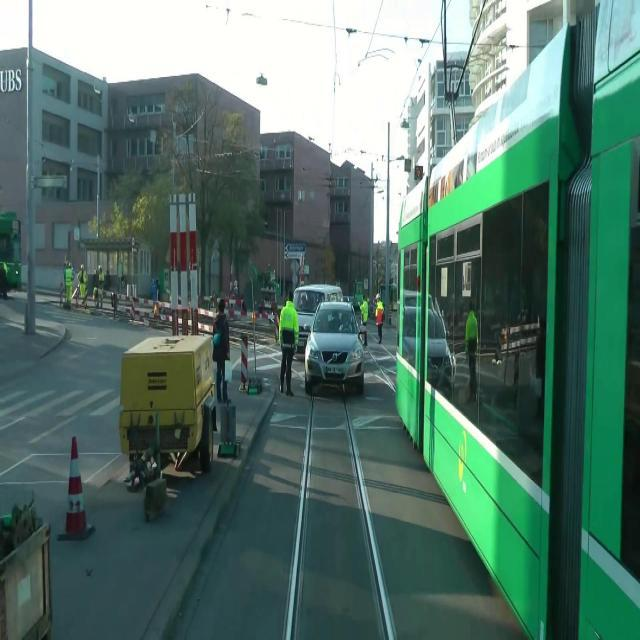danger: (301, 299, 371, 395), (272, 291, 302, 397)
rail: (170, 352, 433, 640)
